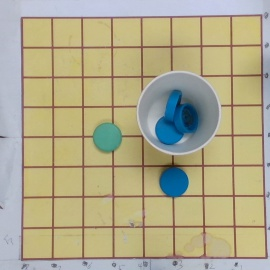blue: (158, 167, 189, 196)
cup_blue: (136, 71, 223, 157)
green: (92, 123, 122, 153)
